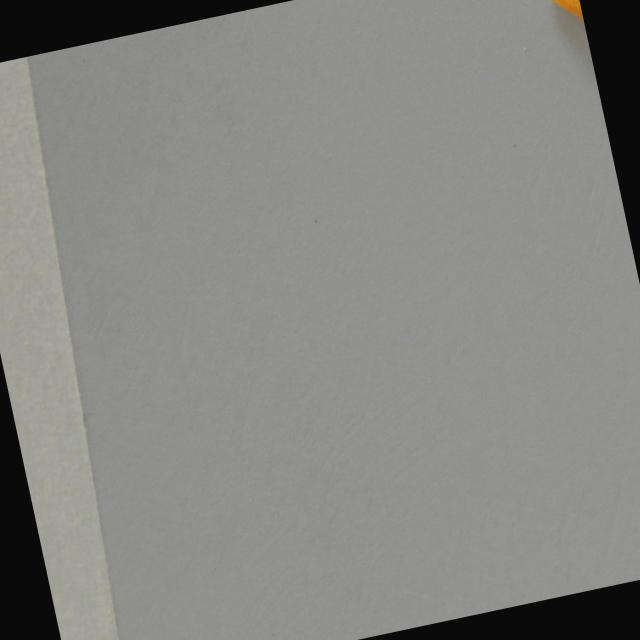dañado: (534, 0, 588, 52)
